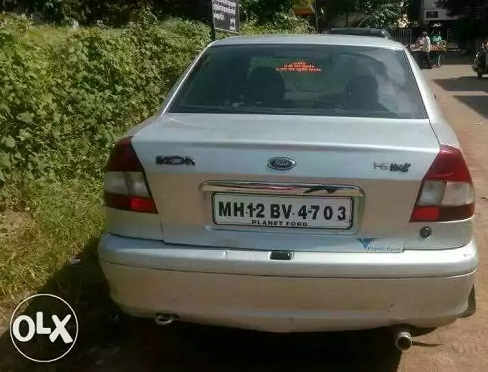licenseplate: (212, 191, 356, 231)
